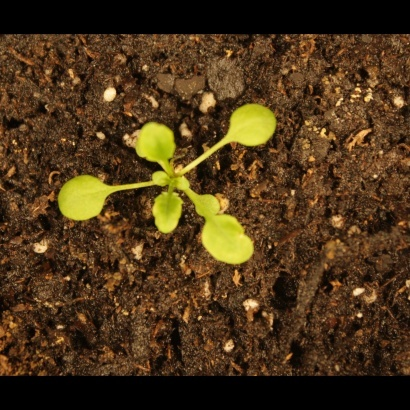leaf: (221, 97, 290, 154), (197, 216, 262, 275), (50, 169, 116, 225), (126, 118, 180, 166), (148, 188, 185, 240), (191, 188, 225, 221), (148, 169, 172, 192), (172, 173, 195, 196)
